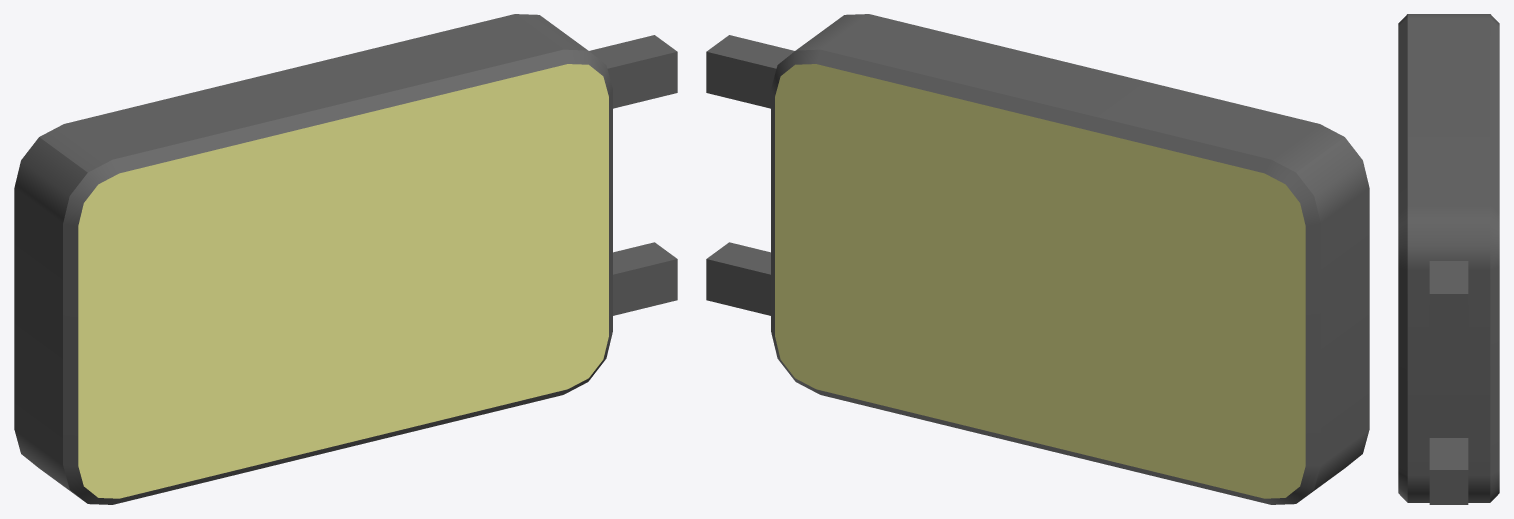
Rendered from NeonSign_Short_01.fbx.
3 renders of one model, left to right at view 1: azimuth 30°, elevation 25°; view 2: azimuth 150°, elevation 25°; view 3: azimuth 270°, elevation 25°, orthographic. The views are drawn at different scales.
Visible parts, largest first — view 1: ShortSign_01; view 2: ShortSign_01; view 3: ShortSign_01.
Boxes of the visible parts, left/top/right/bottom form: ShortSign_01: left=14, top=14, right=677, bottom=504; ShortSign_01: left=706, top=14, right=1369, bottom=504; ShortSign_01: left=1398, top=14, right=1499, bottom=504.
Bounding box in the file's own units: 867 × 456 × 143.
